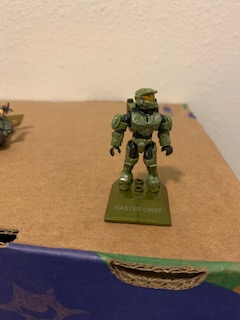chief: (109, 88, 175, 192)
spartan: (107, 86, 173, 190)
